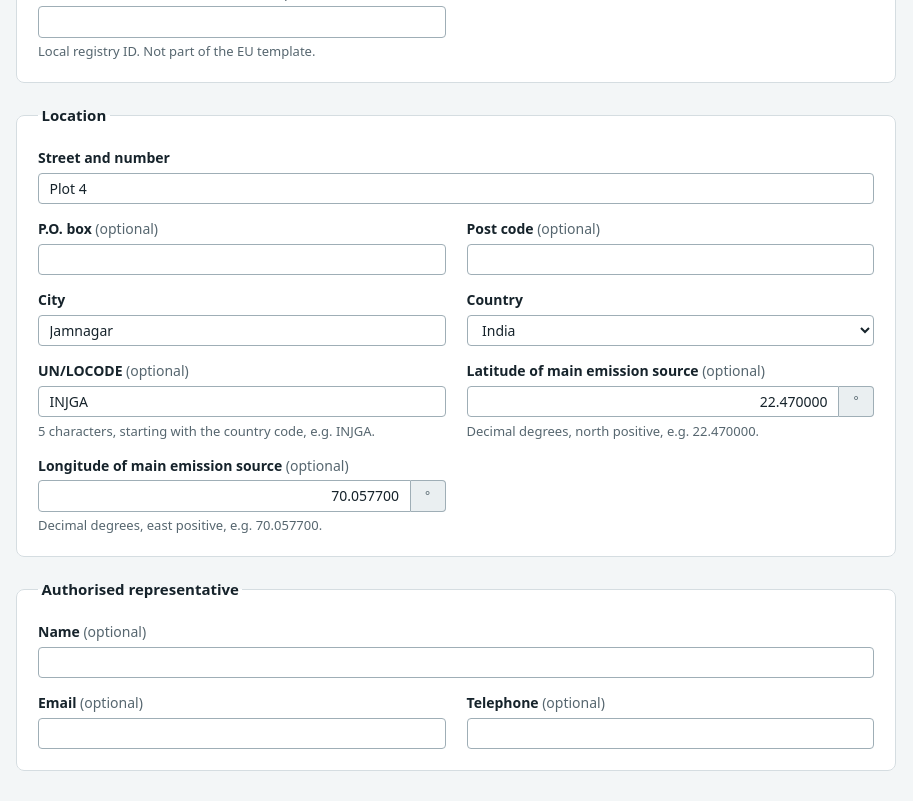
Test case: installation profile › AT2 in the form: latitude 95 is refused before anything is sent
The image size is (913, 801).
(page scrolled)
Step 1. Replace the text in the field labelled "Latitude of main emission source(optional)" with "95" → (653, 401), box [466,386,839,417]
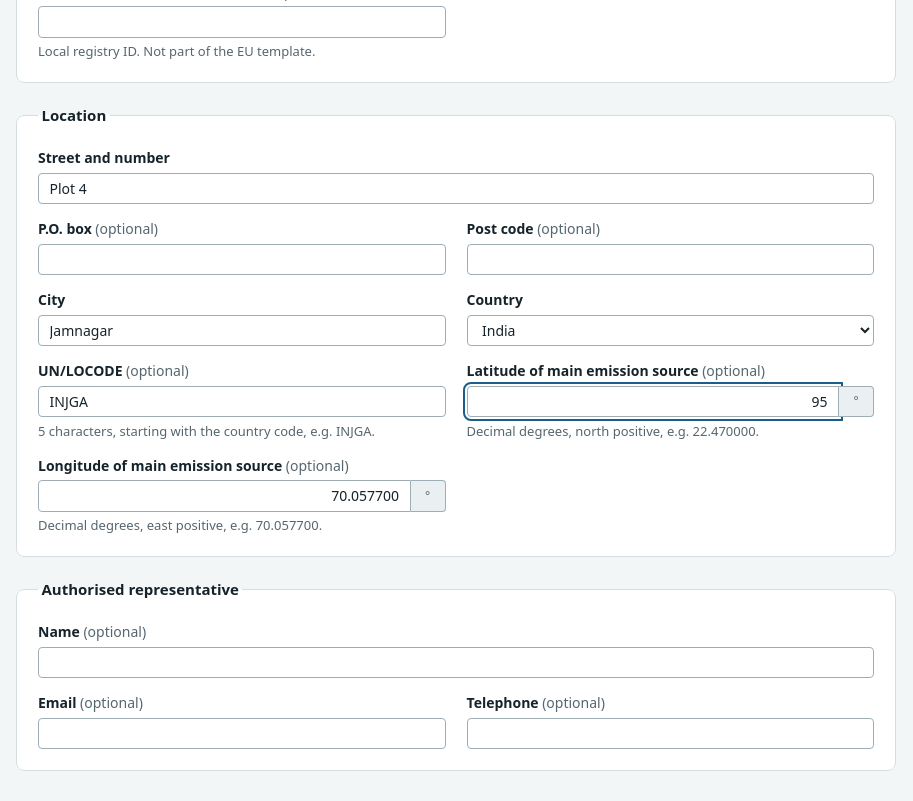
Step 2. Leave the field labelled "Latitude of main emission source(optional)", box [466,386,839,417]
(page scrolled)
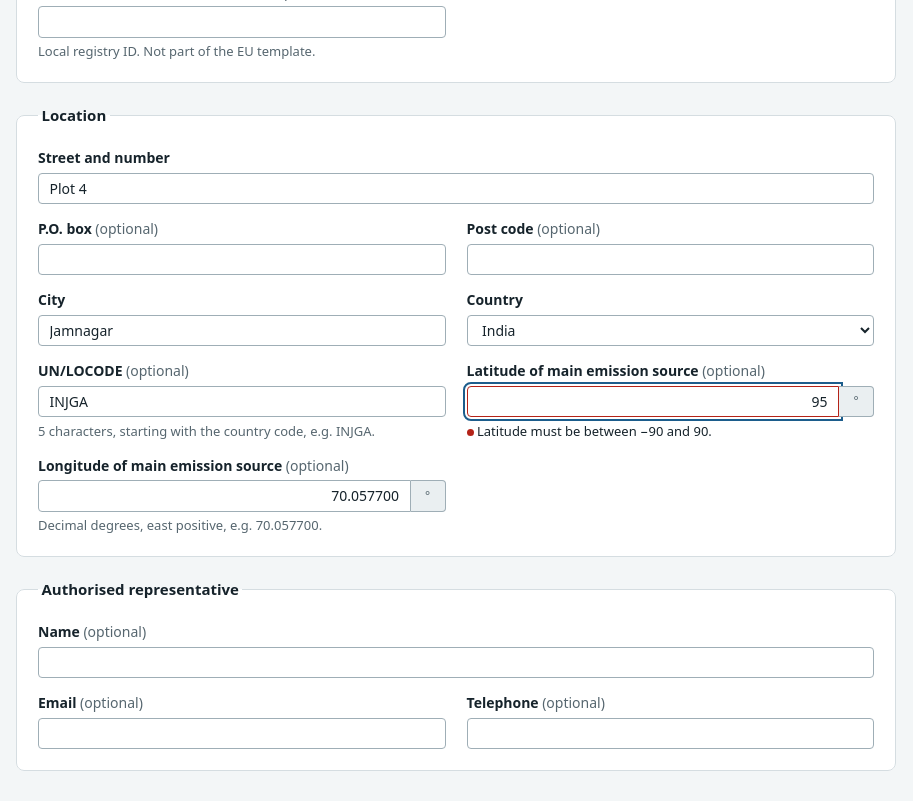
Expected: the text "Latitude must be between −90 and 90." is shown, [466,422,712,440]
